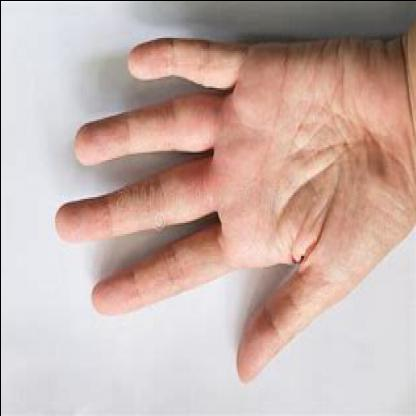Wasp: (169, 96, 268, 210)
